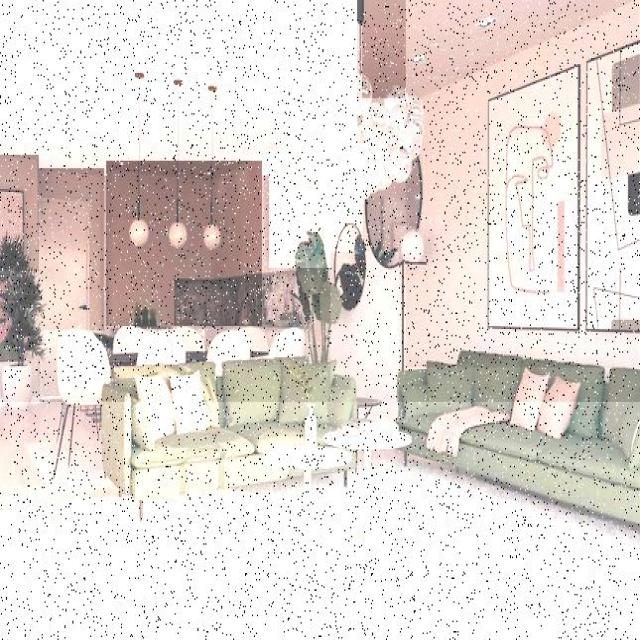Wall: (0, 403, 640, 637), (406, 0, 640, 368), (0, 1, 357, 176), (363, 0, 626, 98), (107, 162, 262, 326), (270, 144, 363, 268), (331, 253, 399, 420), (39, 169, 104, 330), (0, 156, 39, 271)
